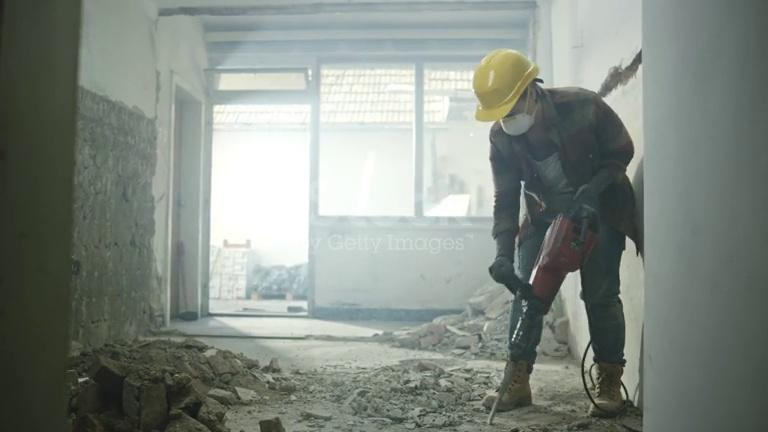helmet: (473, 49, 541, 121)
mask: (502, 112, 535, 137)
person: (471, 50, 646, 418)
